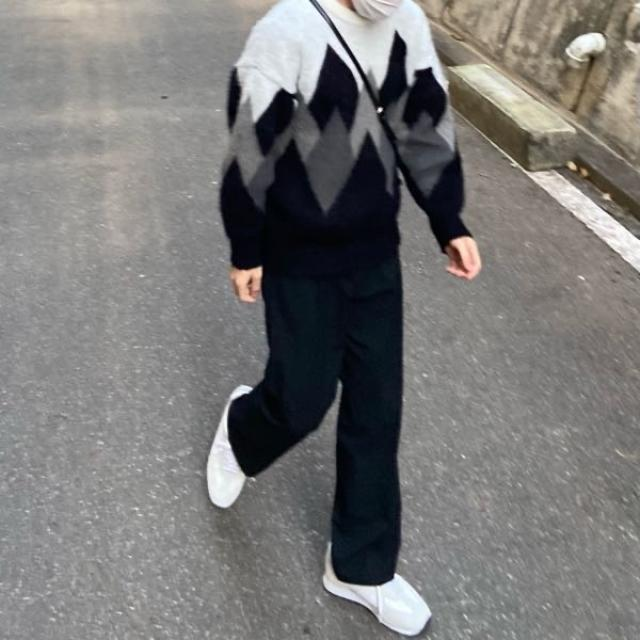slacks: (221, 246, 404, 588)
sweater: (224, 0, 478, 274)
